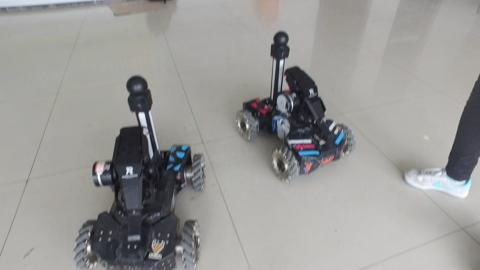chariot: (67, 74, 219, 270), (232, 28, 361, 188)
